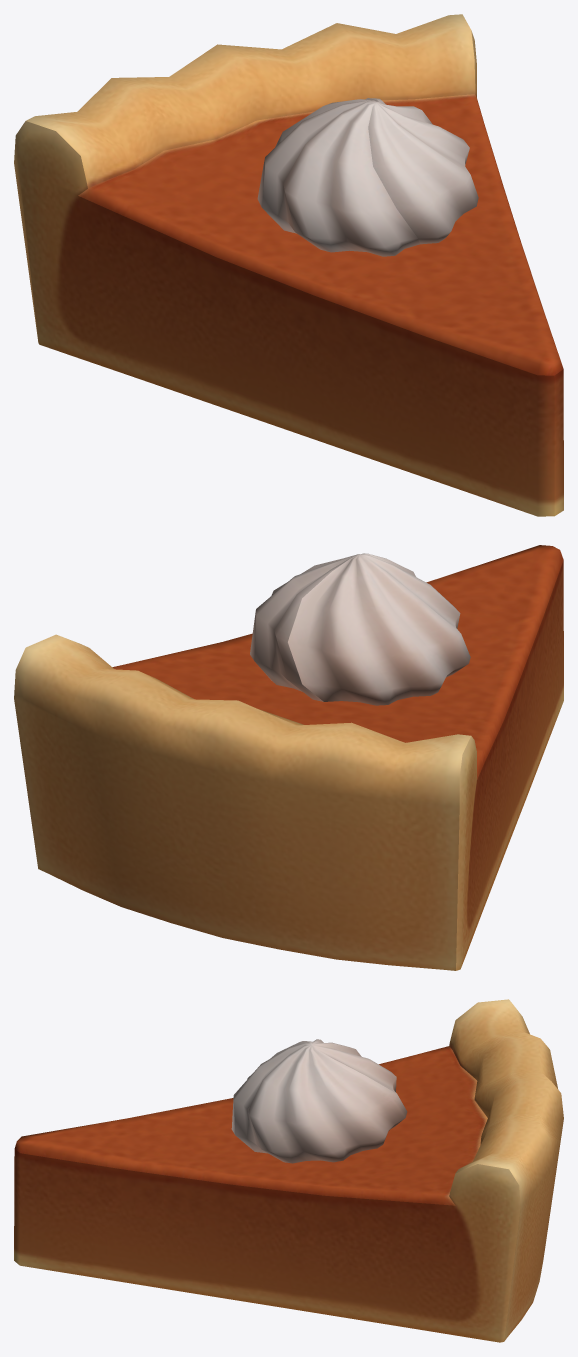
The model's file is PumpkinPie_1.fbx.
3 renders of one model, top to bottom at view 1: azimuth 30°, elevation 25°; view 2: azimuth 150°, elevation 25°; view 3: azimuth 270°, elevation 25°, orthographic. The views are drawn at different scales.
Visible parts, largest first — view 1: PumpkinPie_1; view 2: PumpkinPie_1; view 3: PumpkinPie_1.
Part boxes in pixels (x1=…): PumpkinPie_1: x1=14, y1=14, x2=563, y2=516; PumpkinPie_1: x1=14, y1=545, x2=563, y2=970; PumpkinPie_1: x1=14, y1=999, x2=563, y2=1342.
Size of the model in its own units: 57.7 by 34 by 77.24.
1 material, 1 textured.
